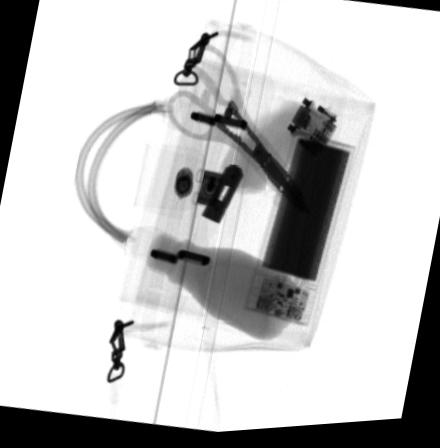Powerbank: (243, 133, 357, 329)
Scissors: (164, 41, 315, 216)
